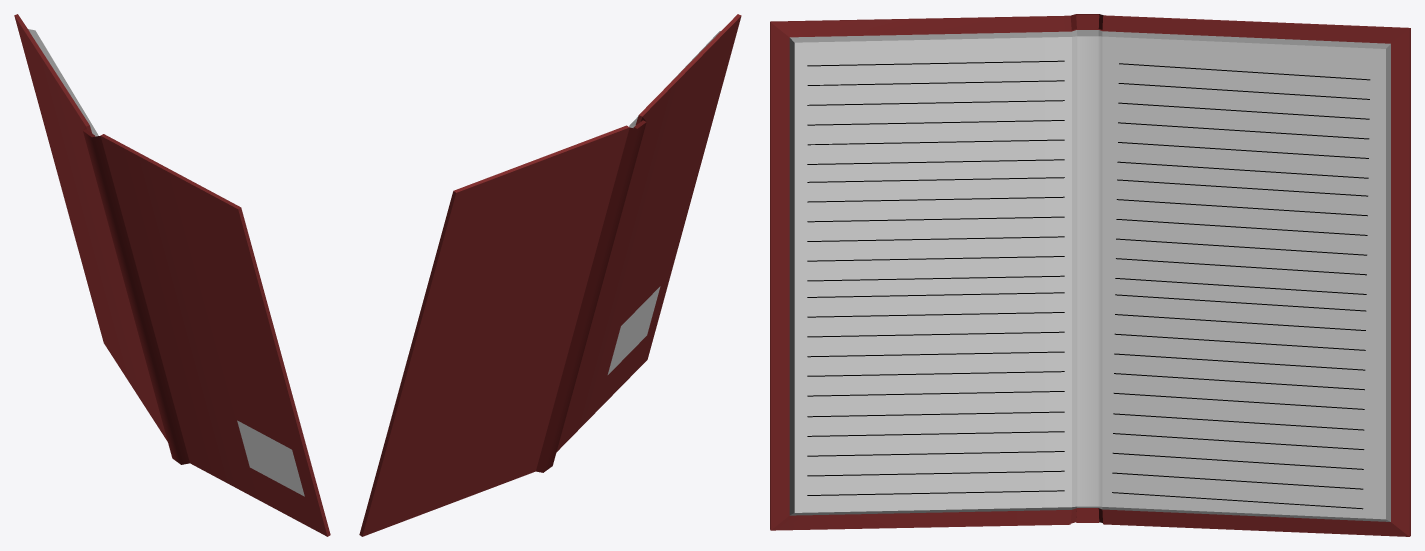
The model's file is caderno.fbx.
The picture shows the model from 3 angles, left to right: view 1: azimuth 30°, elevation 25°; view 2: azimuth 150°, elevation 25°; view 3: azimuth 270°, elevation 25°; orthographic projection. The views are drawn at different scales.
Parts seen in each view (by area): view 1: polySurface7; view 2: polySurface7; view 3: polySurface7.
Part boxes in pixels (x1,y1,x2,y2): polySurface7: (14, 14, 330, 536); polySurface7: (359, 14, 741, 536); polySurface7: (770, 14, 1410, 536).
Bounding box in the file's own units: 5.48 × 13.07 × 16.08.
